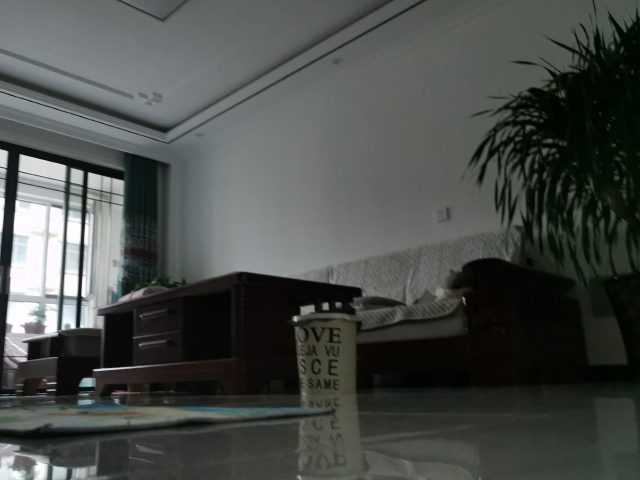carpet: (1, 401, 338, 440)
sofa: (373, 225, 591, 388), (12, 326, 103, 397)
table: (90, 269, 365, 398)
trashcan: (289, 309, 360, 399)
